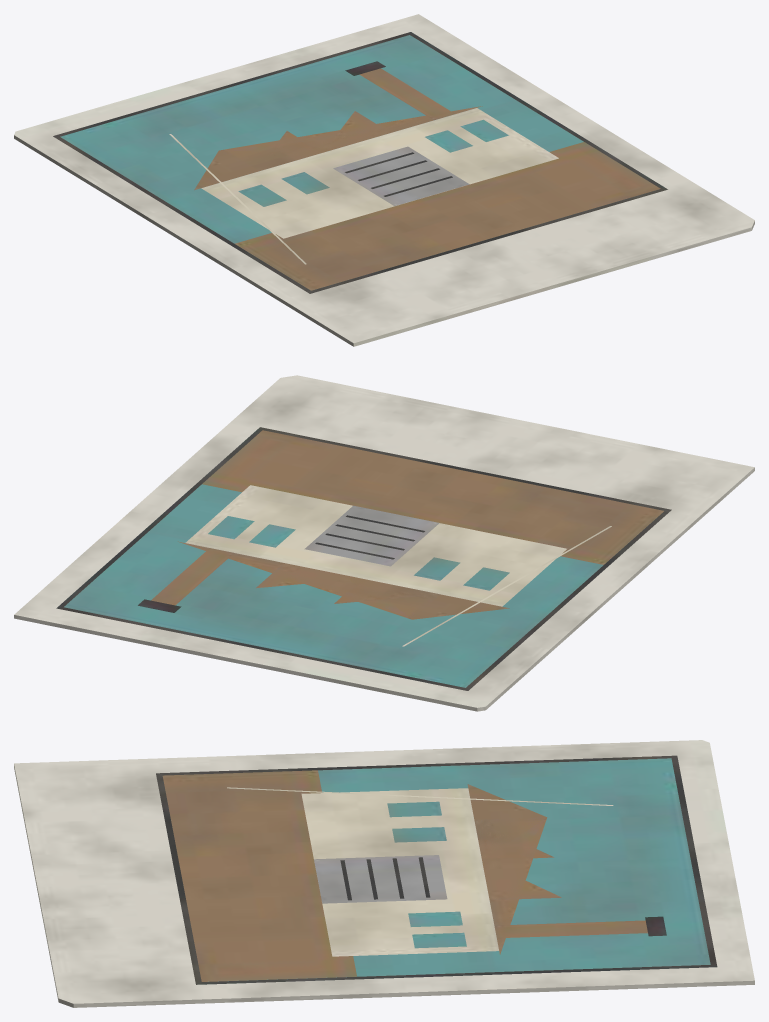
Rendered from P31_polaroid_photos_v1.glb.
3 views of the same model, one above another, from view 1: azimuth 30°, elevation 25°; view 2: azimuth 150°, elevation 25°; view 3: azimuth 270°, elevation 25° (orthographic). The views are drawn at different scales.
Parts seen in each view (by area): view 1: Old instant photograph; view 2: Old instant photograph; view 3: Old instant photograph.
Boxes of the visible parts, x1,y1,x2,y2 form: Old instant photograph: (14,14,754,346); Old instant photograph: (14,375,754,711); Old instant photograph: (14,740,754,1007).
Bounding box in the file's own units: 0.0842 × 0.000708 × 0.1.
6 materials, 6 textured.
